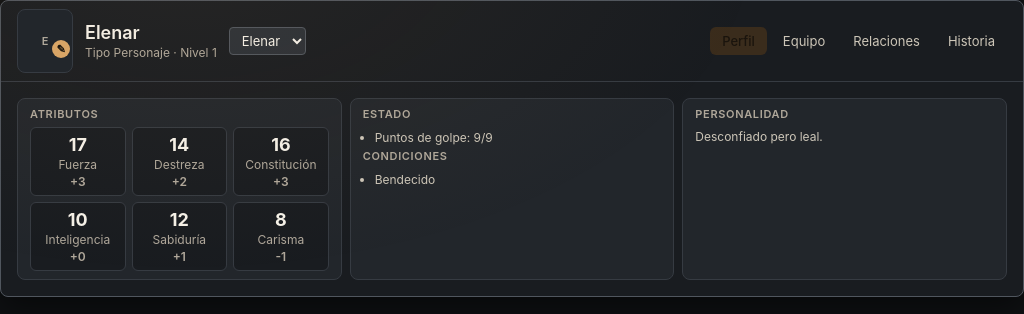
Character Hub (PMB-3.7) › equipo muestra inventario y efectos reales; relaciones carga desde la API
Click the button "Equipo".
click(804, 41)  # box [771,27,837,55]
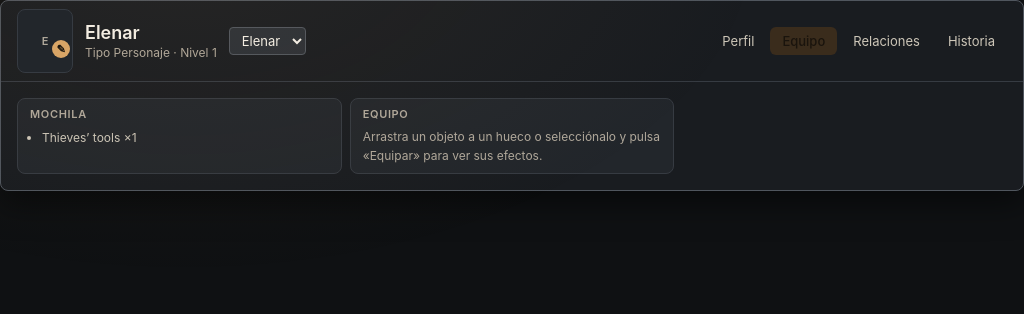
Expected: the list item "Thieves’ tools ×1" is shown, [42,130,136,145]
Click the button "Relaciones".
click(887, 41)  # box [841,27,932,55]
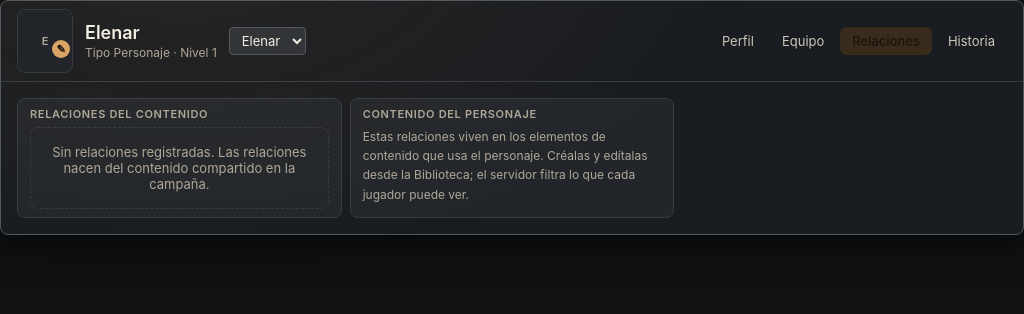
Expected: the text "Sin relaciones registradas" is shown, [52,144,306,192]
Click the button "Perfil".
click(738, 41)  # box [710,27,766,55]
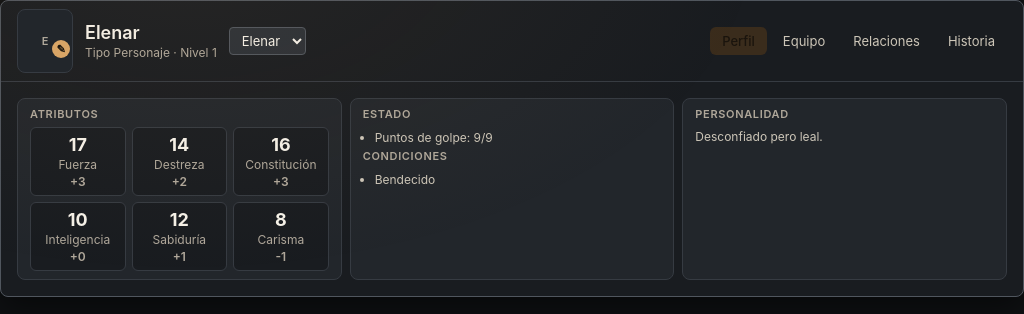
Expected: the list item "Bendecido" is shown, [375,172,435,187]
